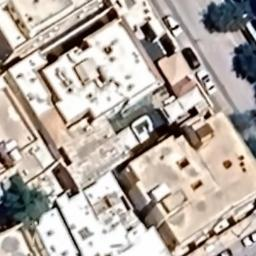SUV: (162, 13, 184, 38)
sedan: (196, 68, 220, 96), (180, 44, 202, 70)
